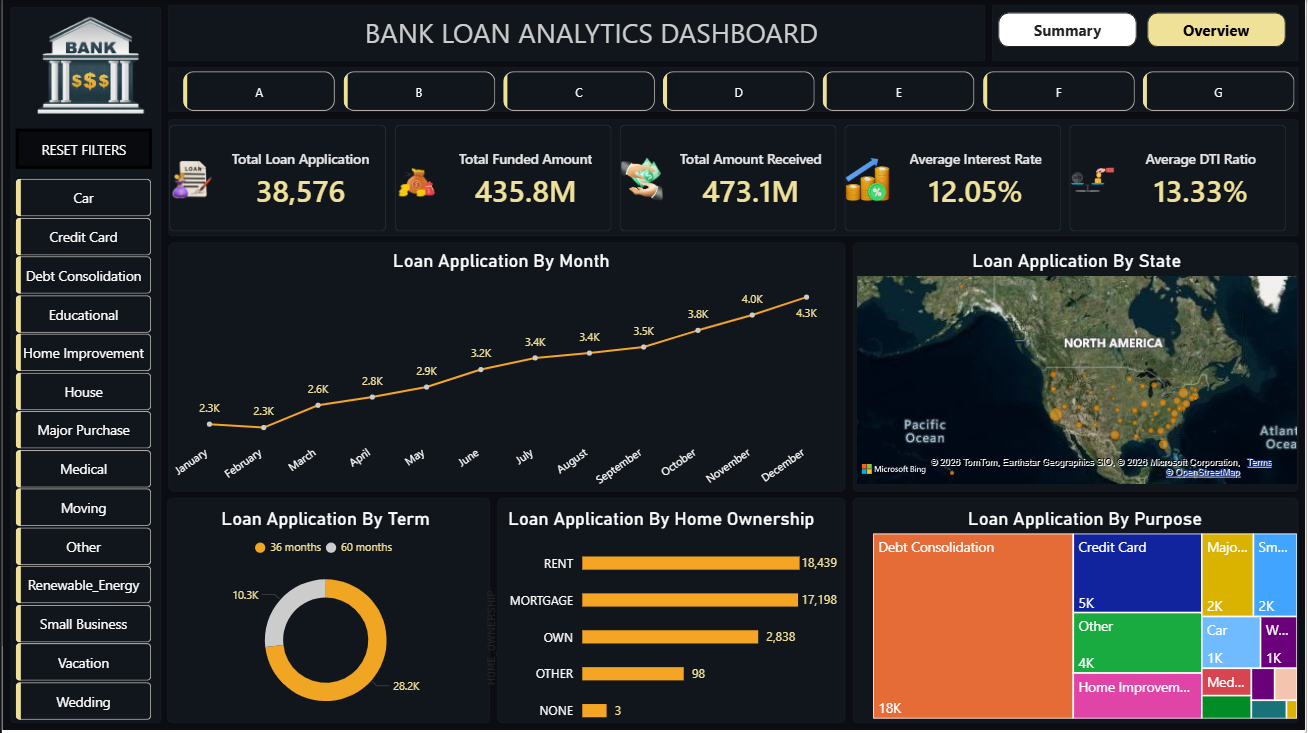

The page's visual inventory and layout, read from the dashboard file:
{"tool":"powerbi","page":{"name":"Overview","canvas":[1280,720],"ordinal":1},"visuals":[{"type":"cardVisual","fields":{"Data":["financial_loan.Total Aplicant","financial_loan.Total Loan Amount","financial_loan.Total Amount Received","financial_loan.Average Interest Rate","financial_loan.Avg DTI"]},"box":[147.3,105.6,1133,139.9],"z":0},{"type":"advancedSlicerVisual","fields":{"Values":["financial_loan.GRADE"]},"box":[173.1,70,1107.2,39.3],"z":1000},{"type":"donutChart","title":"Loan Application By Term","fields":{"Y":["financial_loan.Total Loan Application"],"Category":["financial_loan.TERM"]},"box":[160.8,498.4,314.2,207.4],"z":2000},{"type":"clusteredBarChart","title":"Loan Application By Home Ownership","fields":{"Category":["financial_loan.HOME_OWNERSHIP"],"Y":["financial_loan.Total Loan Application"]},"box":[475,498.4,344.9,222.2],"z":3000},{"type":"treemap","title":"Loan Application By Purpose","fields":{"Values":["financial_loan.Total Loan Application"],"Group":["financial_loan.PURPOSE"]},"box":[855.5,498.4,416.1,207.4],"z":4000},{"type":"image","box":[13.5,12.3,147.3,103.1],"z":5000},{"type":"textbox","box":[292.1,8.6,573.2,61.4],"z":6000},{"type":"advancedSlicerVisual","fields":{"Values":["financial_loan.PURPOSE"]},"box":[13.5,175.5,133.8,545],"z":7000},{"type":"actionButton","box":[13.5,126.4,133.8,39.3],"z":8000},{"type":"lineChart","title":"Loan Application By Month","fields":{"Y":["financial_loan.Total Loan Application"],"Category":["financial_loan.ISSUE_DATE.Variation.Date Hierarchy.Month"]},"box":[169.4,245.5,642,238.1],"z":9000},{"type":"map","title":"Loan Application By State","fields":{"Category":["financial_loan.ADDRESS_STATE"],"Size":["financial_loan.Total Loan Application"]},"box":[839.6,245.5,432.1,229.5],"z":10000},{"type":"pageNavigator","box":[978.3,12.3,283.5,34.4],"z":11000}]}

Visuals, with their boxes in screenshot pixels (x1, y1, x2, y2), scaled from the page's 1280x720 canvas onto the 1308x733 screenshot:
cardVisual - financial_loan.Total Aplicant x financial_loan.Total Loan Amount: <bbox>151, 108, 1307, 250</bbox>
advancedSlicerVisual - financial_loan.GRADE: <bbox>177, 71, 1307, 111</bbox>
"Loan Application By Term" donutChart: <bbox>164, 507, 485, 719</bbox>
"Loan Application By Home Ownership" clusteredBarChart: <bbox>485, 507, 838, 732</bbox>
"Loan Application By Purpose" treemap: <bbox>874, 507, 1299, 719</bbox>
image: <bbox>14, 13, 164, 117</bbox>
textbox: <bbox>298, 9, 884, 71</bbox>
advancedSlicerVisual - financial_loan.PURPOSE: <bbox>14, 179, 151, 732</bbox>
actionButton: <bbox>14, 129, 151, 169</bbox>
"Loan Application By Month" lineChart: <bbox>173, 250, 829, 492</bbox>
"Loan Application By State" map: <bbox>858, 250, 1300, 484</bbox>
pageNavigator: <bbox>1000, 13, 1289, 48</bbox>
